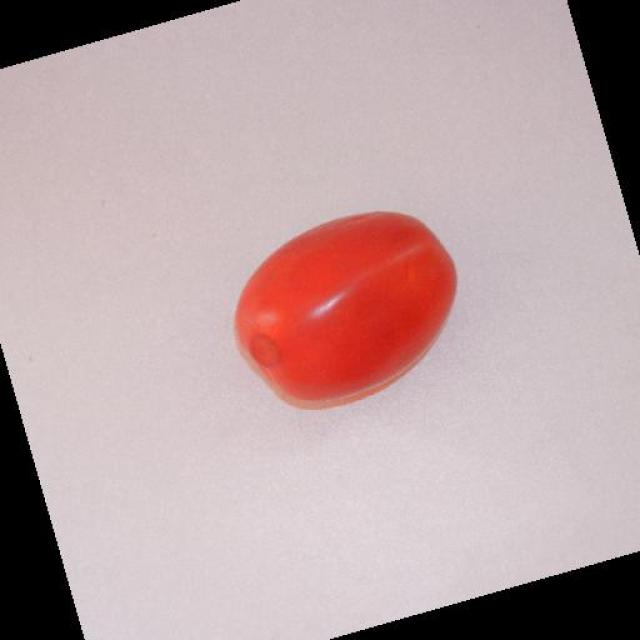Fresh_tomato: (235, 208, 447, 400)
